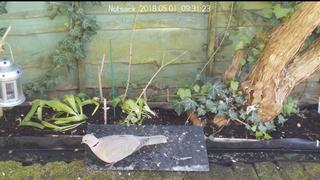collared dove: (81, 134, 167, 169)
